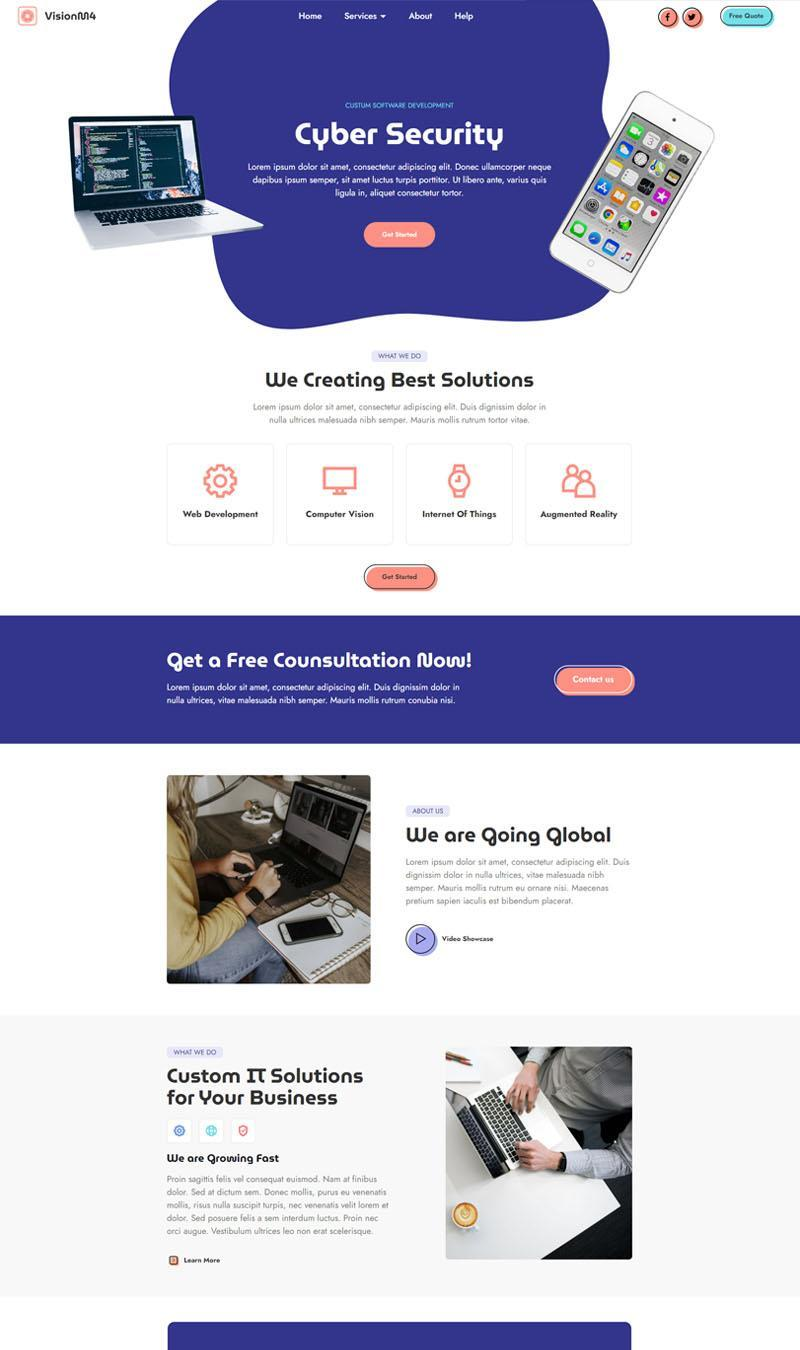button: (554, 666, 636, 696), (366, 564, 438, 591), (365, 222, 436, 249), (722, 8, 775, 28)
dropdown: (344, 12, 391, 24)
icon: (558, 462, 600, 503), (320, 465, 362, 498), (202, 463, 238, 500), (444, 464, 474, 500), (407, 924, 438, 955), (682, 7, 704, 29), (658, 8, 679, 29), (172, 1124, 190, 1138), (236, 1124, 251, 1140), (207, 1125, 218, 1140)
label: (166, 1066, 366, 1110), (160, 652, 480, 676), (296, 120, 506, 156), (407, 820, 614, 850), (183, 509, 262, 522), (421, 510, 499, 523), (539, 510, 620, 522), (304, 510, 377, 521), (442, 934, 496, 944), (296, 11, 326, 24), (405, 12, 437, 24), (453, 12, 476, 22)
